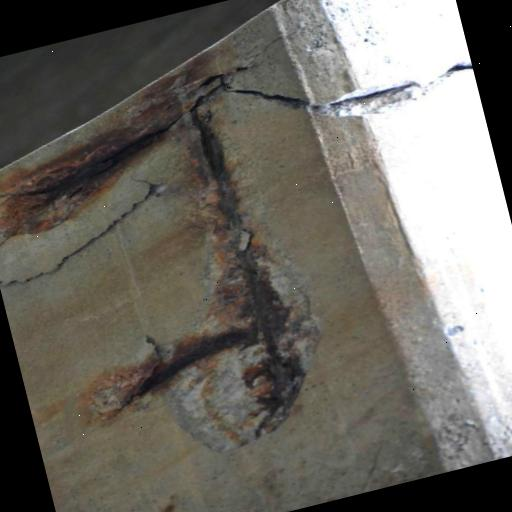spalling: (0, 72, 323, 456), (0, 168, 172, 295), (239, 49, 471, 127)
